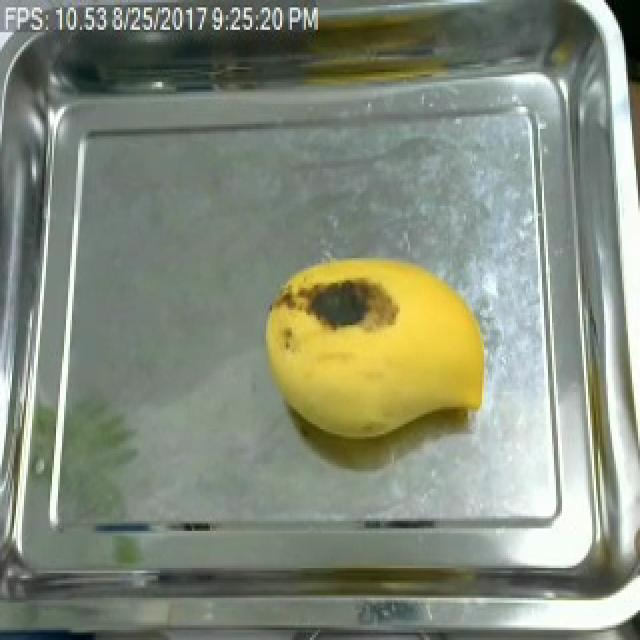fruit: (254, 243, 496, 454), (2, 508, 186, 640)
